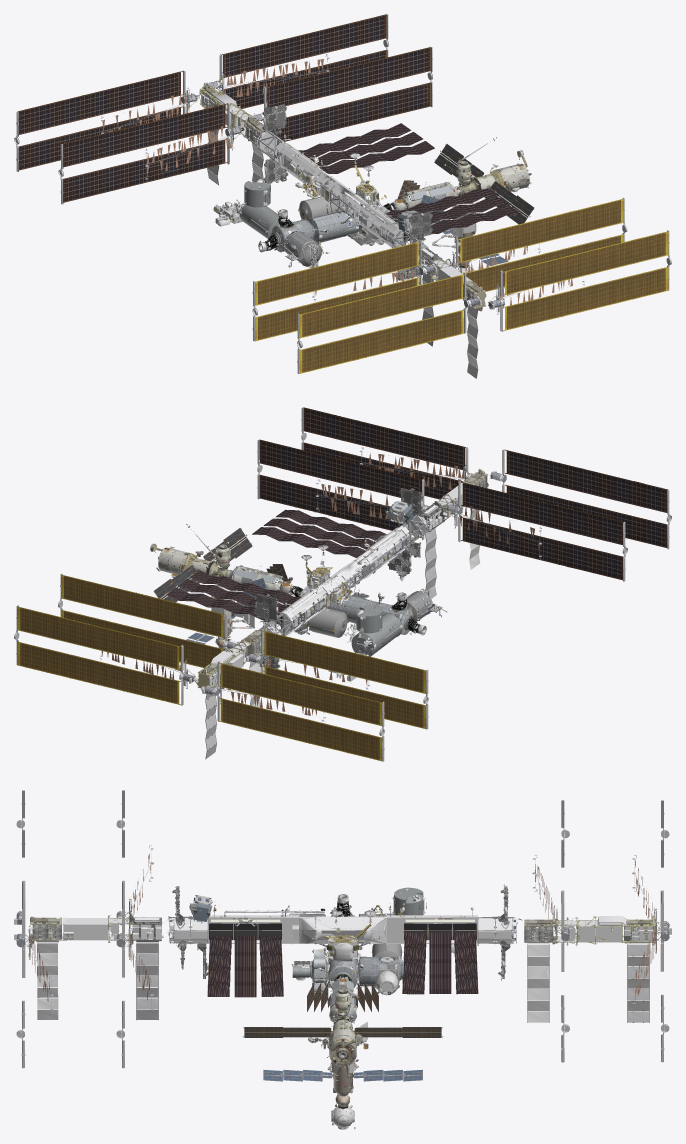
File: iss.glb
The picture shows the model from 3 angles, top to bottom: view 1: azimuth 30°, elevation 25°; view 2: azimuth 150°, elevation 25°; view 3: azimuth 270°, elevation 25°; orthographic projection. The views are drawn at different scales.
Visible parts, largest first — view 1: CETA_A, Airlock, IROSA_Deployed_P44A, RSNode_Details_Cameras, USLab, MLM, JEM_PM, FGB_Details_Antennas, Columbus, JEM_PS, PMM, Node2; view 2: CETA_A, Airlock, IROSA_Deployed_P44A, RSNode_Details_Cameras, JEM_PM, MLM, PMM, FGB_Details_Antennas, JEM_PS, USLab, Columbus; view 3: CETA_A, Airlock, RSNode_Details_Cameras, IROSA_Deployed_P44A, MLM, Node2, MLM_Details_Camera, JEM_PS, FGB_Details_Antennas, Node1.
Boxes of the visible parts, box(x1,y1,x2,y2) form: CETA_A: box(14, 14, 671, 378); Airlock: box(184, 80, 531, 309); IROSA_Deployed_P44A: box(101, 54, 584, 314); RSNode_Details_Cameras: box(434, 144, 534, 224); USLab: box(308, 211, 358, 242); MLM: box(431, 203, 508, 267); JEM_PM: box(239, 204, 279, 238); FGB_Details_Antennas: box(394, 182, 460, 210); Columbus: box(283, 230, 322, 266); JEM_PS: box(244, 181, 270, 207); PMM: box(299, 196, 337, 219); Node2: box(271, 203, 340, 252); CETA_A: box(14, 407, 671, 761); Airlock: box(156, 471, 504, 695); IROSA_Deployed_P44A: box(100, 447, 541, 721); RSNode_Details_Cameras: box(150, 528, 252, 602); JEM_PM: box(351, 613, 402, 656); MLM: box(186, 584, 255, 649); PMM: box(309, 608, 347, 637); FGB_Details_Antennas: box(226, 565, 293, 594); JEM_PS: box(356, 605, 382, 633); USLab: box(327, 595, 377, 622); Columbus: box(406, 591, 432, 621); CETA_A: box(16, 790, 669, 1077); Airlock: box(14, 884, 671, 1064); RSNode_Details_Cameras: box(242, 1013, 443, 1125); IROSA_Deployed_P44A: box(19, 845, 666, 1013); MLM: box(263, 1022, 422, 1108); Node2: box(331, 915, 402, 986); MLM_Details_Camera: box(307, 982, 378, 1105); JEM_PS: box(393, 887, 424, 915); FGB_Details_Antennas: box(329, 971, 356, 1023); Node1: box(328, 959, 357, 987).
Size of the model in its own units: 80.52 by 32.12 by 109.
31 materials, 29 textured.
